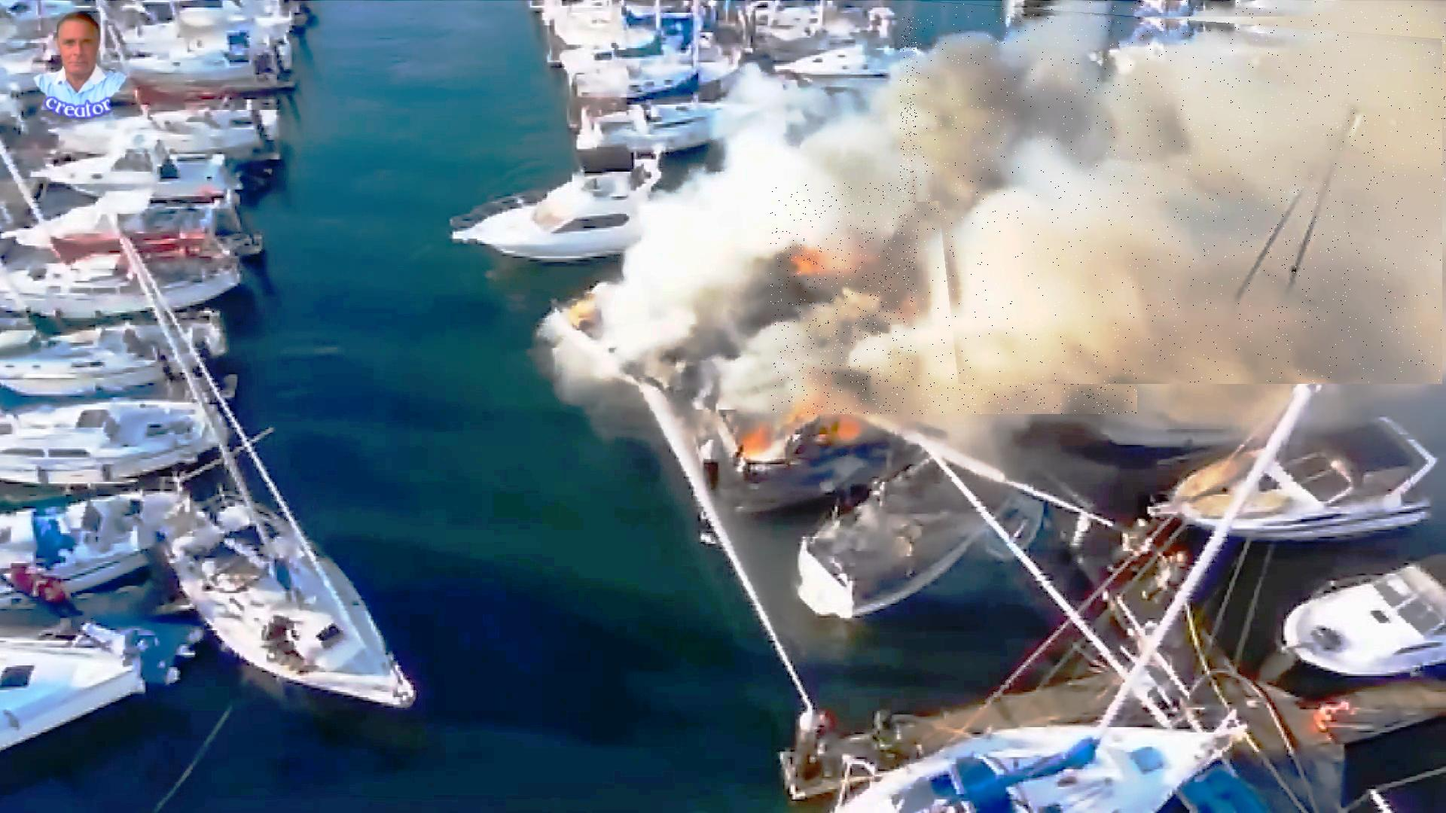smoke: (918, 0, 1444, 384), (901, 17, 1446, 202), (771, 183, 1137, 414)
